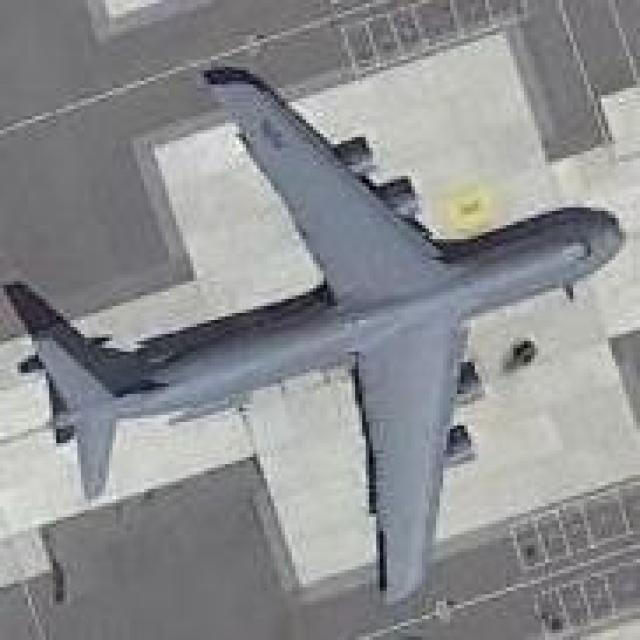C-5_TopDown: (5, 66, 636, 606)
